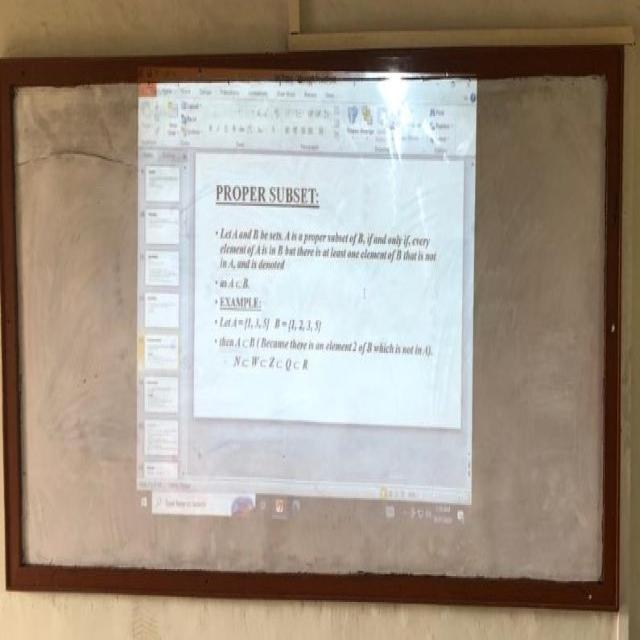Slide: (132, 72, 477, 528)
White-board: (6, 55, 616, 595)
